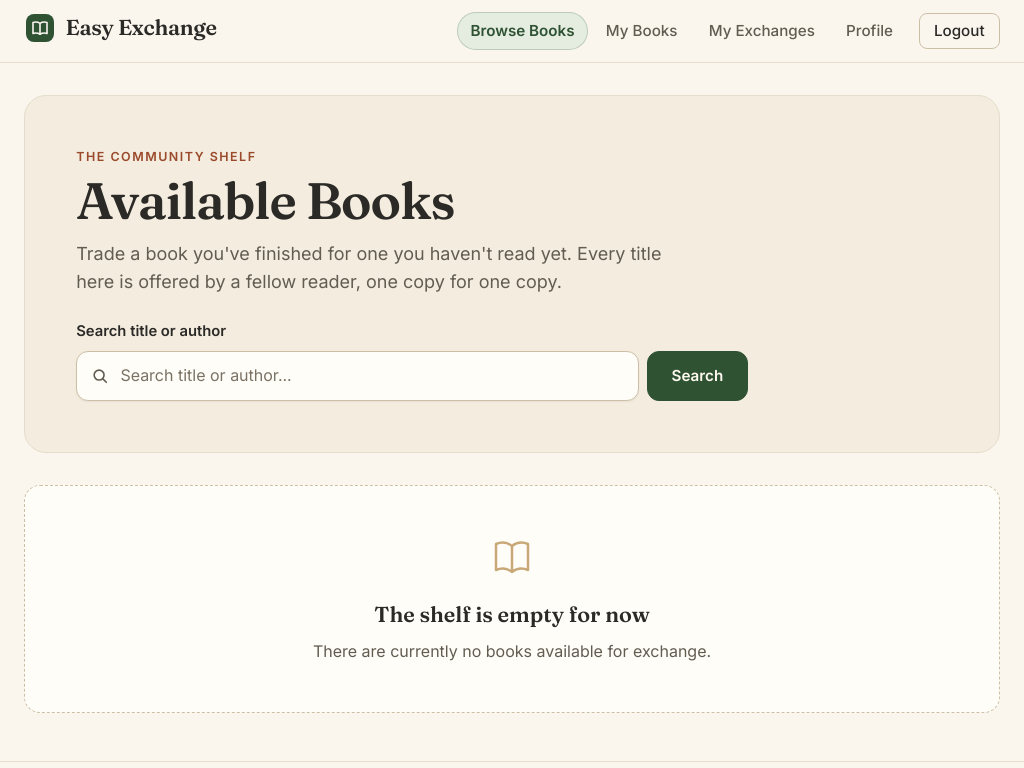
Scenario: App authentication › logs out and returns to login
The image size is (1024, 768).
Step 1. Click the button "Logout" → click(959, 31), box top-left (919, 13), bottom-right (1000, 49)
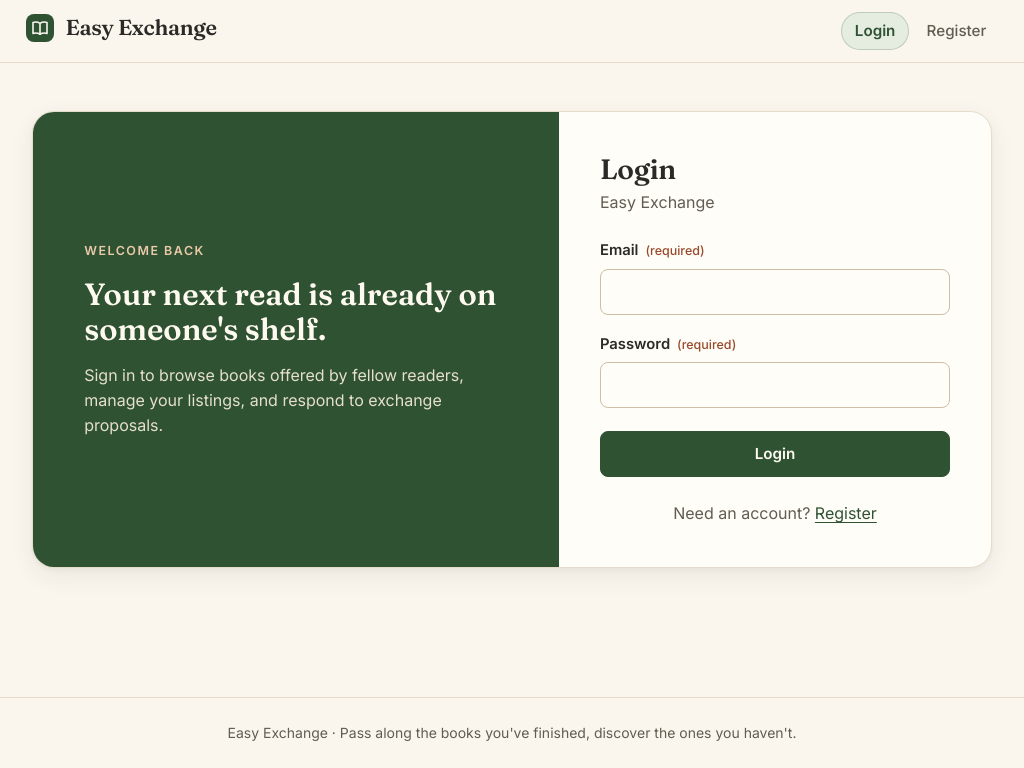
Expected: the heading "Login" is shown, top-left (600, 152), bottom-right (676, 186)
